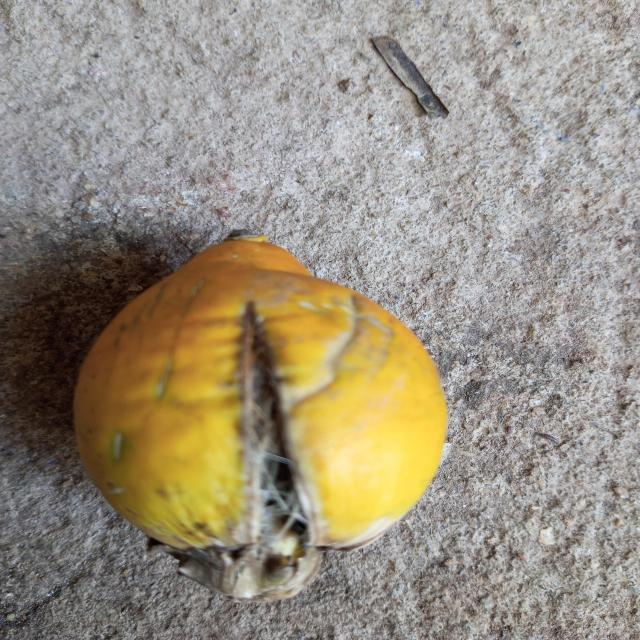damaged: (74, 231, 446, 601)
